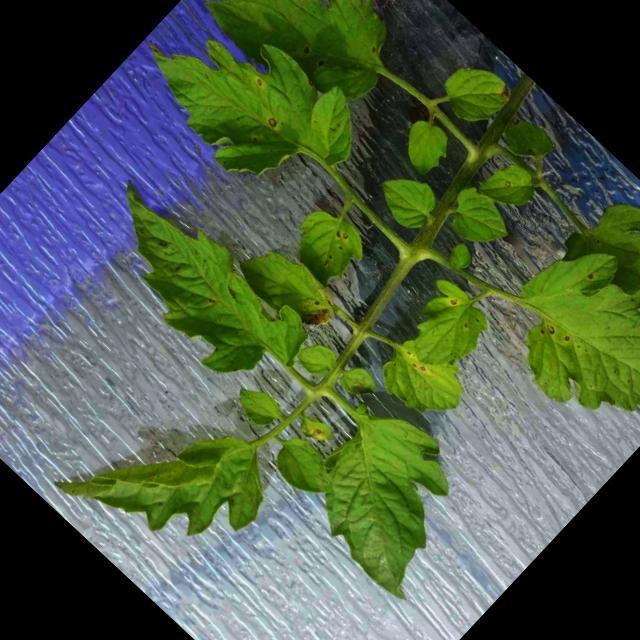Tomato Septoria spot leaf: (67, 165, 320, 411), (120, 0, 380, 227), (475, 221, 640, 463), (196, 0, 415, 136), (228, 231, 348, 348), (383, 269, 500, 386), (362, 324, 474, 434), (271, 195, 377, 301), (476, 154, 543, 220), (493, 108, 559, 172)
Tomato healthy leaf: (284, 392, 500, 608), (435, 180, 517, 262), (368, 160, 447, 238), (389, 111, 460, 182), (228, 376, 286, 433)
